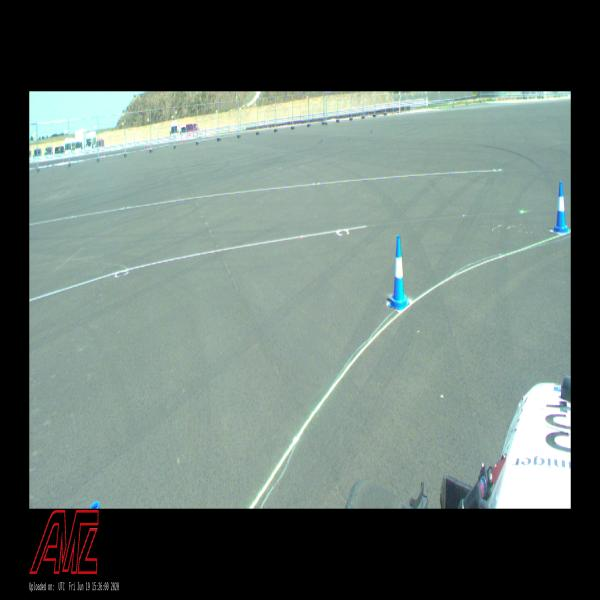blue_cone: (388, 235, 410, 310), (553, 181, 569, 233)
